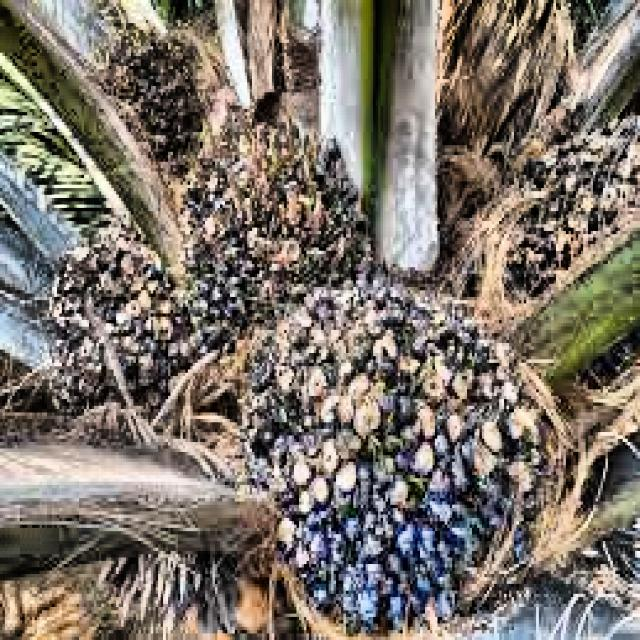FFB: (238, 289, 529, 625), (184, 131, 363, 347), (499, 114, 640, 297), (53, 242, 191, 411), (93, 41, 232, 190)
